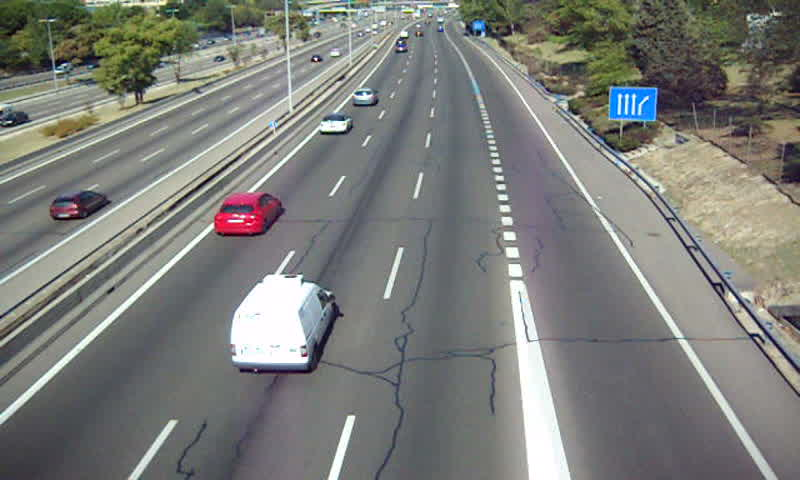car: (214, 193, 280, 236), (320, 111, 352, 135), (352, 87, 378, 107)
van: (233, 274, 336, 370)
